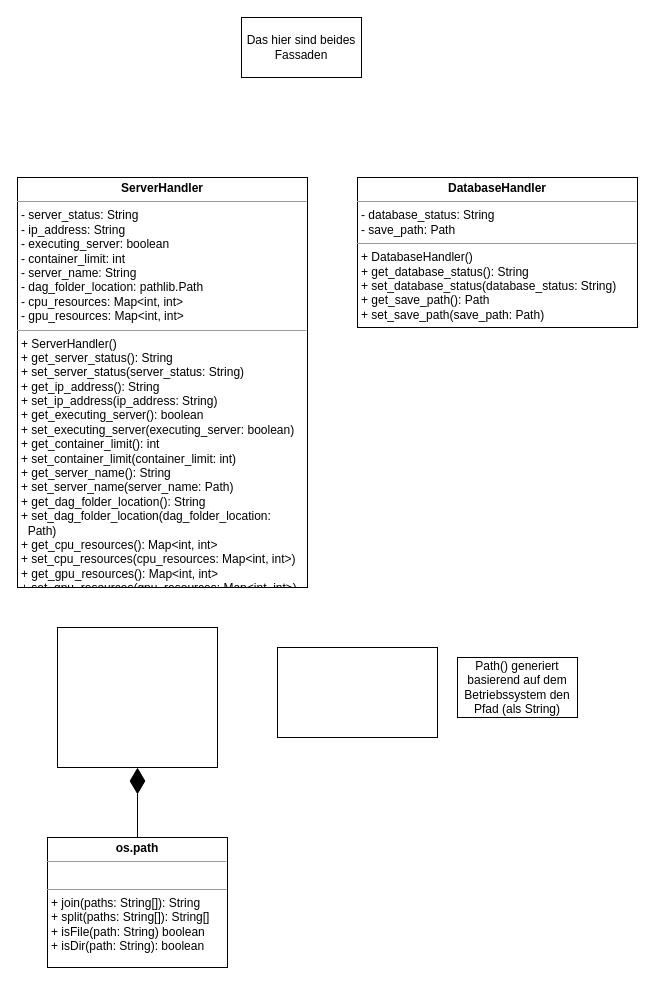
Image size: 655x985. Some labels were removed from this diagram. The shapes that lost their labels are listed below. From the top down, each one's centre as x and y in pixels, then its label:
At pixel 137 697: "os + getcwd(): String + listdir(): String[] + mkdir(path: String)".
At pixel 357 692: "pathlib.Path + parent: Path + path: String + Path()".
